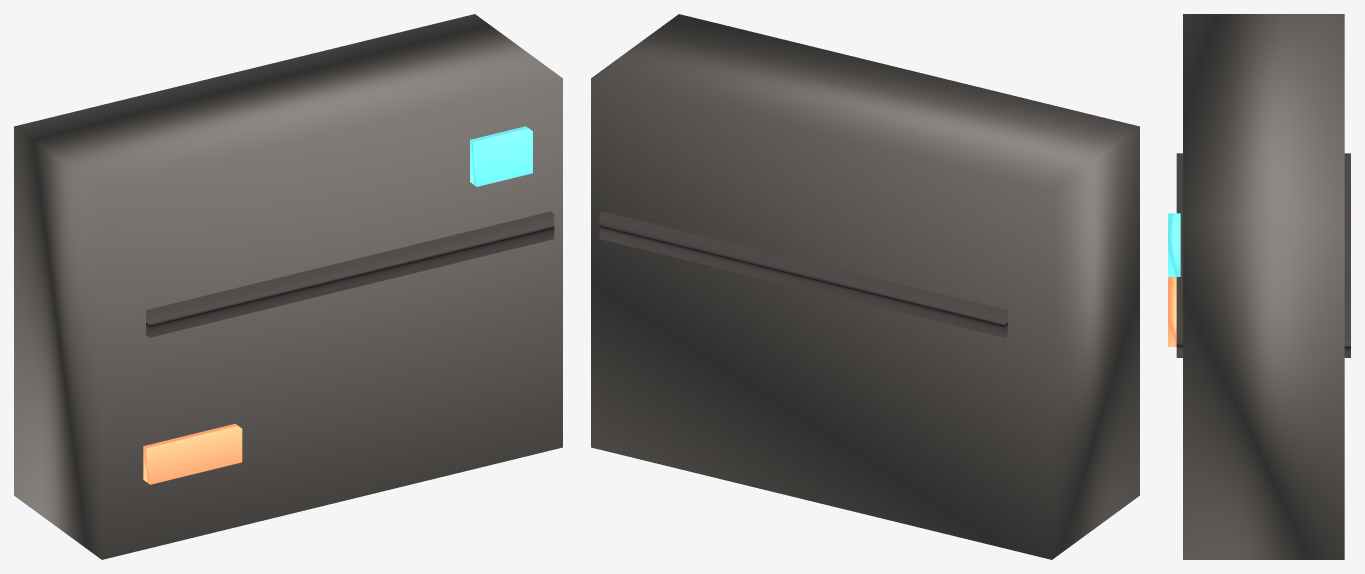
Rendered from damaged-vessel-salvage-rack-lod2.glb.
The picture shows the model from 3 angles, left to right: view 1: azimuth 30°, elevation 25°; view 2: azimuth 150°, elevation 25°; view 3: azimuth 270°, elevation 25°; orthographic projection. The views are drawn at different scales.
Visible parts, largest first — view 1: damaged-vessel-salvage-rack-shell, damaged-vessel-salvage-rack-shelf, damaged-vessel-salvage-rack-warning, damaged-vessel-salvage-rack-status; view 2: damaged-vessel-salvage-rack-shell, damaged-vessel-salvage-rack-shelf; view 3: damaged-vessel-salvage-rack-shell, damaged-vessel-salvage-rack-shelf, damaged-vessel-salvage-rack-status, damaged-vessel-salvage-rack-warning.
Part boxes in pixels (box(x1,y1,x2,y2)): damaged-vessel-salvage-rack-shell: box(14, 14, 562, 559); damaged-vessel-salvage-rack-shelf: box(146, 211, 554, 337); damaged-vessel-salvage-rack-warning: box(143, 423, 242, 484); damaged-vessel-salvage-rack-status: box(470, 126, 532, 186); damaged-vessel-salvage-rack-shell: box(591, 14, 1139, 559); damaged-vessel-salvage-rack-shelf: box(599, 211, 1007, 337); damaged-vessel-salvage-rack-shell: box(1183, 14, 1344, 559); damaged-vessel-salvage-rack-shelf: box(1176, 153, 1350, 357); damaged-vessel-salvage-rack-status: box(1168, 213, 1180, 276); damaged-vessel-salvage-rack-warning: box(1168, 277, 1176, 346).
Bounding box in the file's own units: 2.3 × 1.76 × 0.86.
